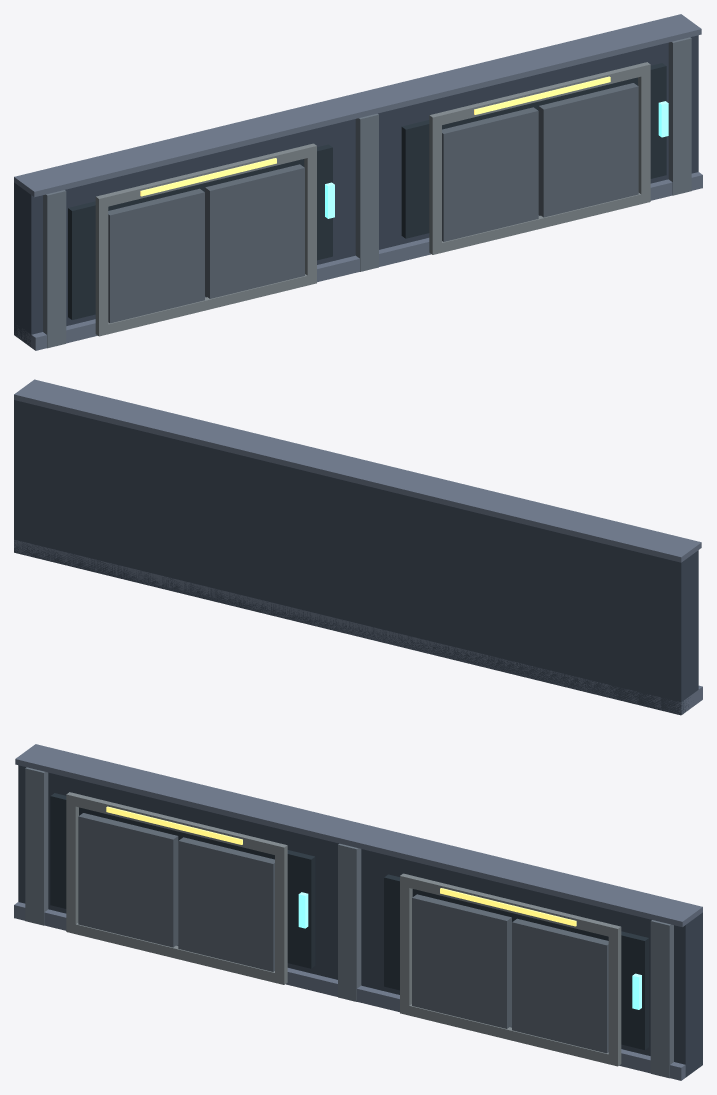
The model's file is DS_WallA.glb.
The picture shows the model from 3 angles, top to bottom: view 1: azimuth 30°, elevation 25°; view 2: azimuth 150°, elevation 25°; view 3: azimuth 330°, elevation 25°; orthographic projection.
Visible parts, largest first — view 1: DS_WallA; view 2: DS_WallA; view 3: DS_WallA.
Boxes of the visible parts, bbox=[...] form: DS_WallA: bbox=[14, 14, 702, 350]; DS_WallA: bbox=[14, 379, 702, 715]; DS_WallA: bbox=[14, 744, 702, 1080].
Bounding box in the file's own units: 64 × 14.5 × 4.7.
3 materials, 3 textured.
